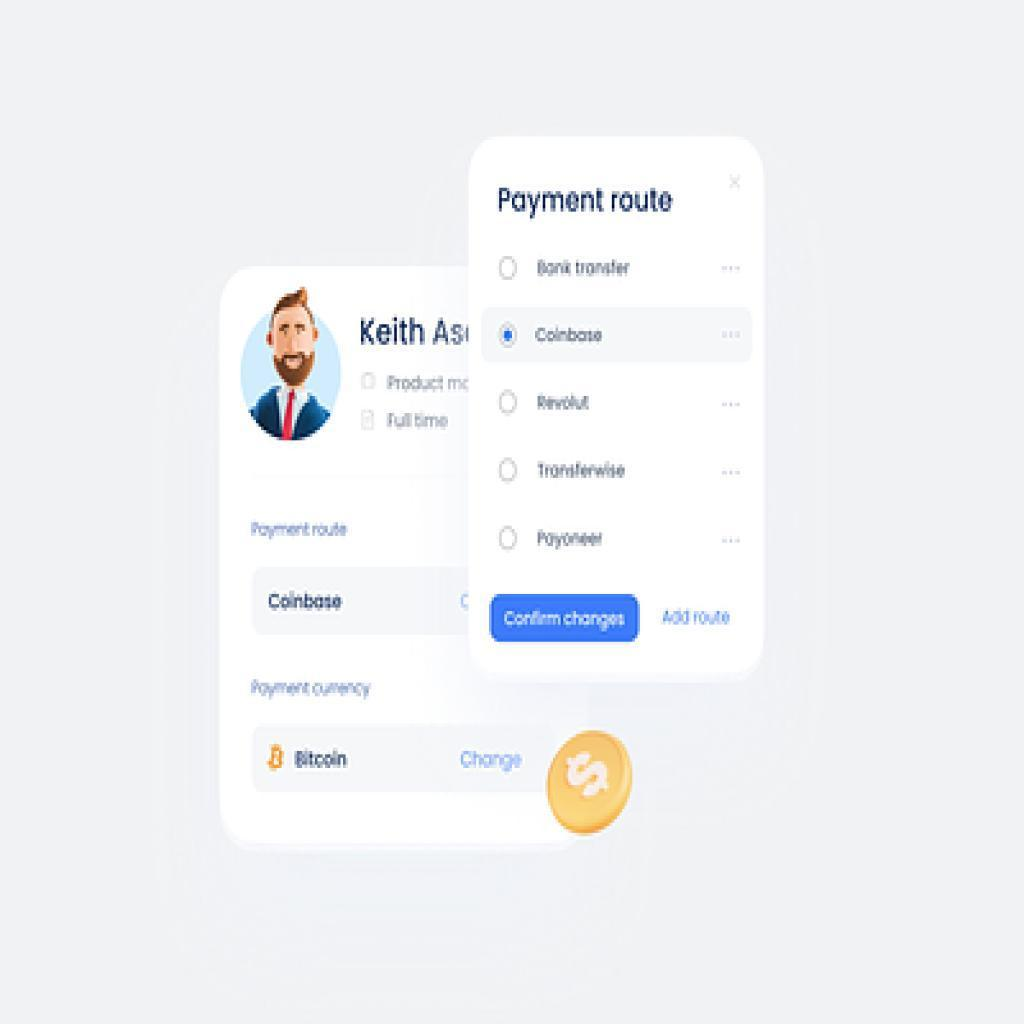button: (489, 594, 641, 644)
icon: (718, 330, 747, 344), (718, 398, 745, 412), (719, 264, 746, 277), (719, 535, 744, 549), (719, 469, 744, 480)
label: (536, 459, 631, 484), (534, 257, 634, 280), (267, 590, 347, 616), (455, 749, 526, 775), (532, 326, 606, 348), (294, 747, 355, 773), (662, 607, 734, 629), (537, 529, 609, 550), (536, 392, 598, 415), (267, 745, 287, 773)
radio: (498, 255, 519, 283), (499, 389, 519, 417), (499, 457, 519, 485), (499, 525, 519, 553), (498, 323, 519, 349)
